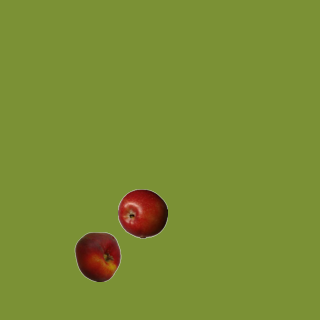Apple Braeburn: (117, 188, 167, 238)
Nectarine Flat: (72, 231, 122, 281)
